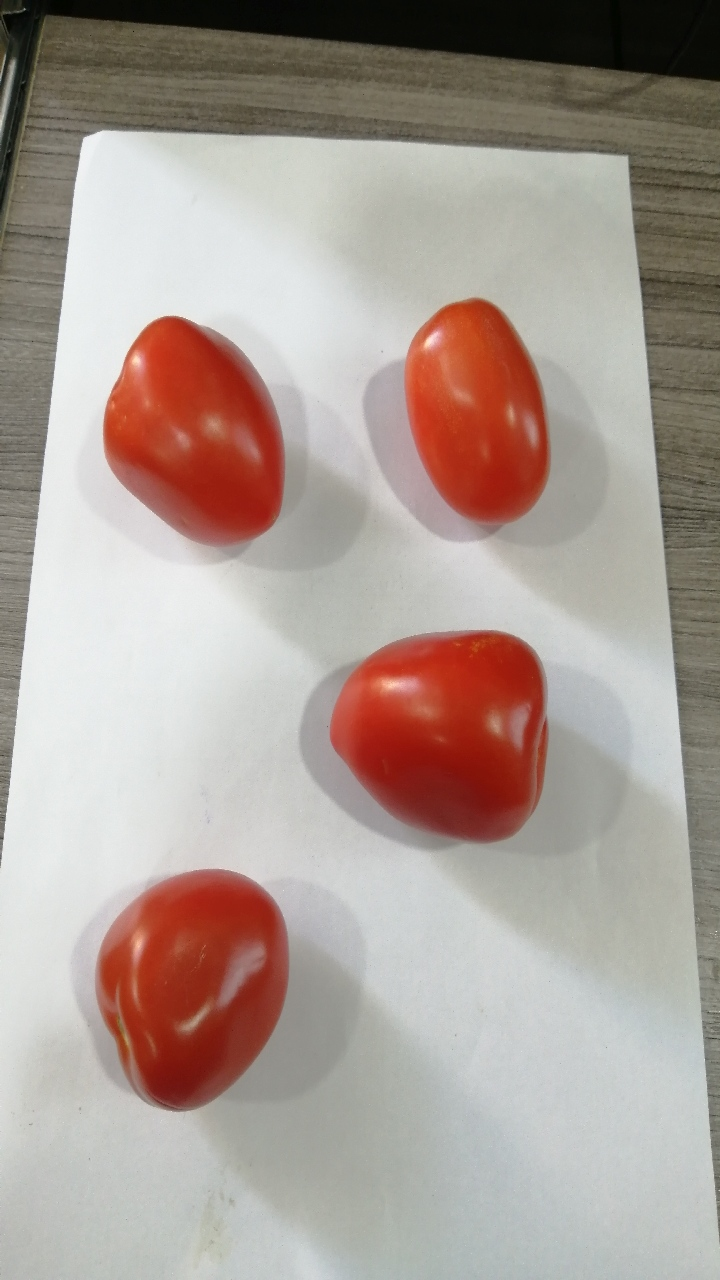tomateRojo: (49, 848, 340, 1135), (312, 619, 600, 863), (374, 277, 574, 569), (89, 297, 289, 562)
